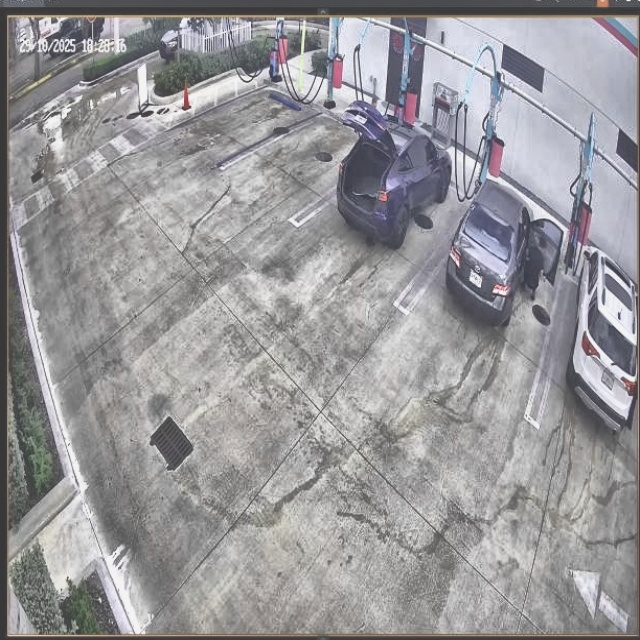Car: (448, 178, 561, 327), (336, 102, 452, 247)
